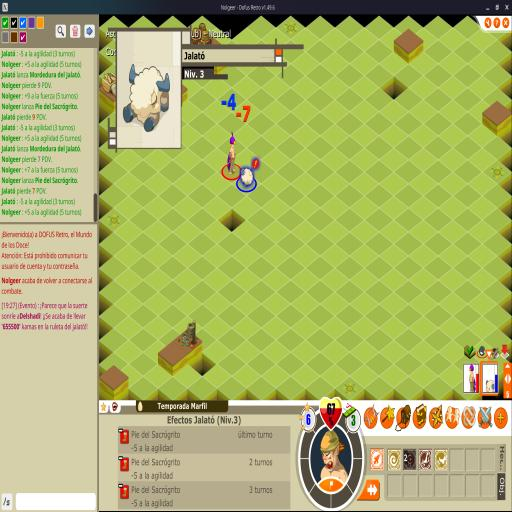Enemigos: (240, 168, 255, 188)
Personaje: (227, 132, 236, 174)
